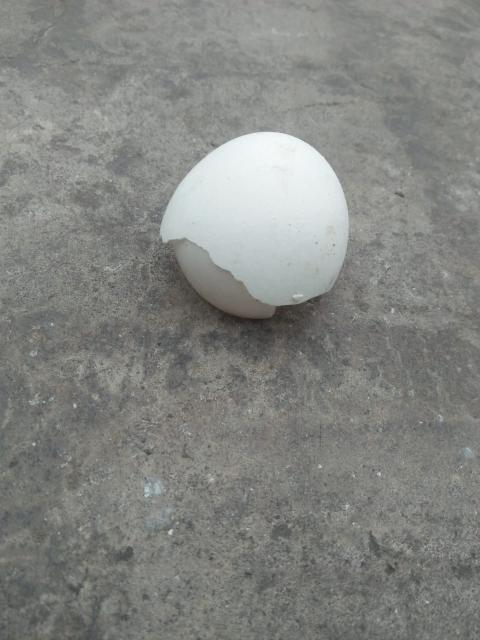Roto: (158, 130, 350, 320)
